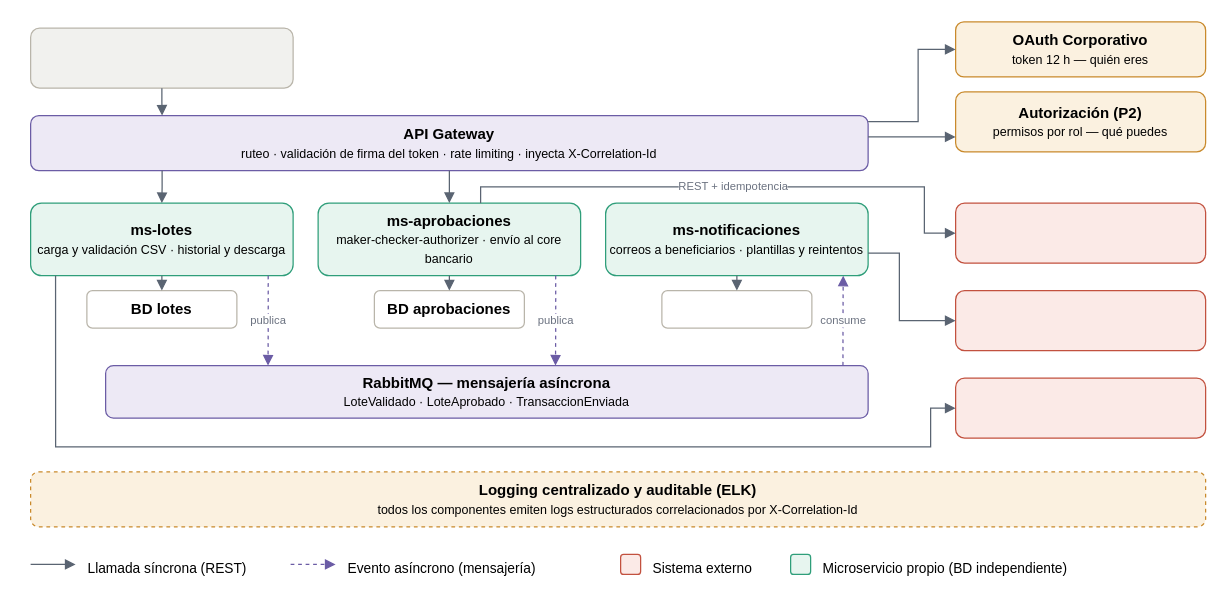
The diagram is 1228 pixels wide and 599 high, and some of its shapes have lost their labels. Here are the shapes that lost their labels. From the top down, the box of each, then its label:
(29, 27, 293, 88): Portal Web Corporativo maker · checker · authorizer
(954, 202, 1206, 263): Core Bancario externo · compensación
(661, 289, 812, 328): BD notificaciones
(954, 289, 1206, 351): Servidor SMTP externo · correo saliente
(954, 377, 1206, 438): Almacenamiento S3 CSV originales · versionado
